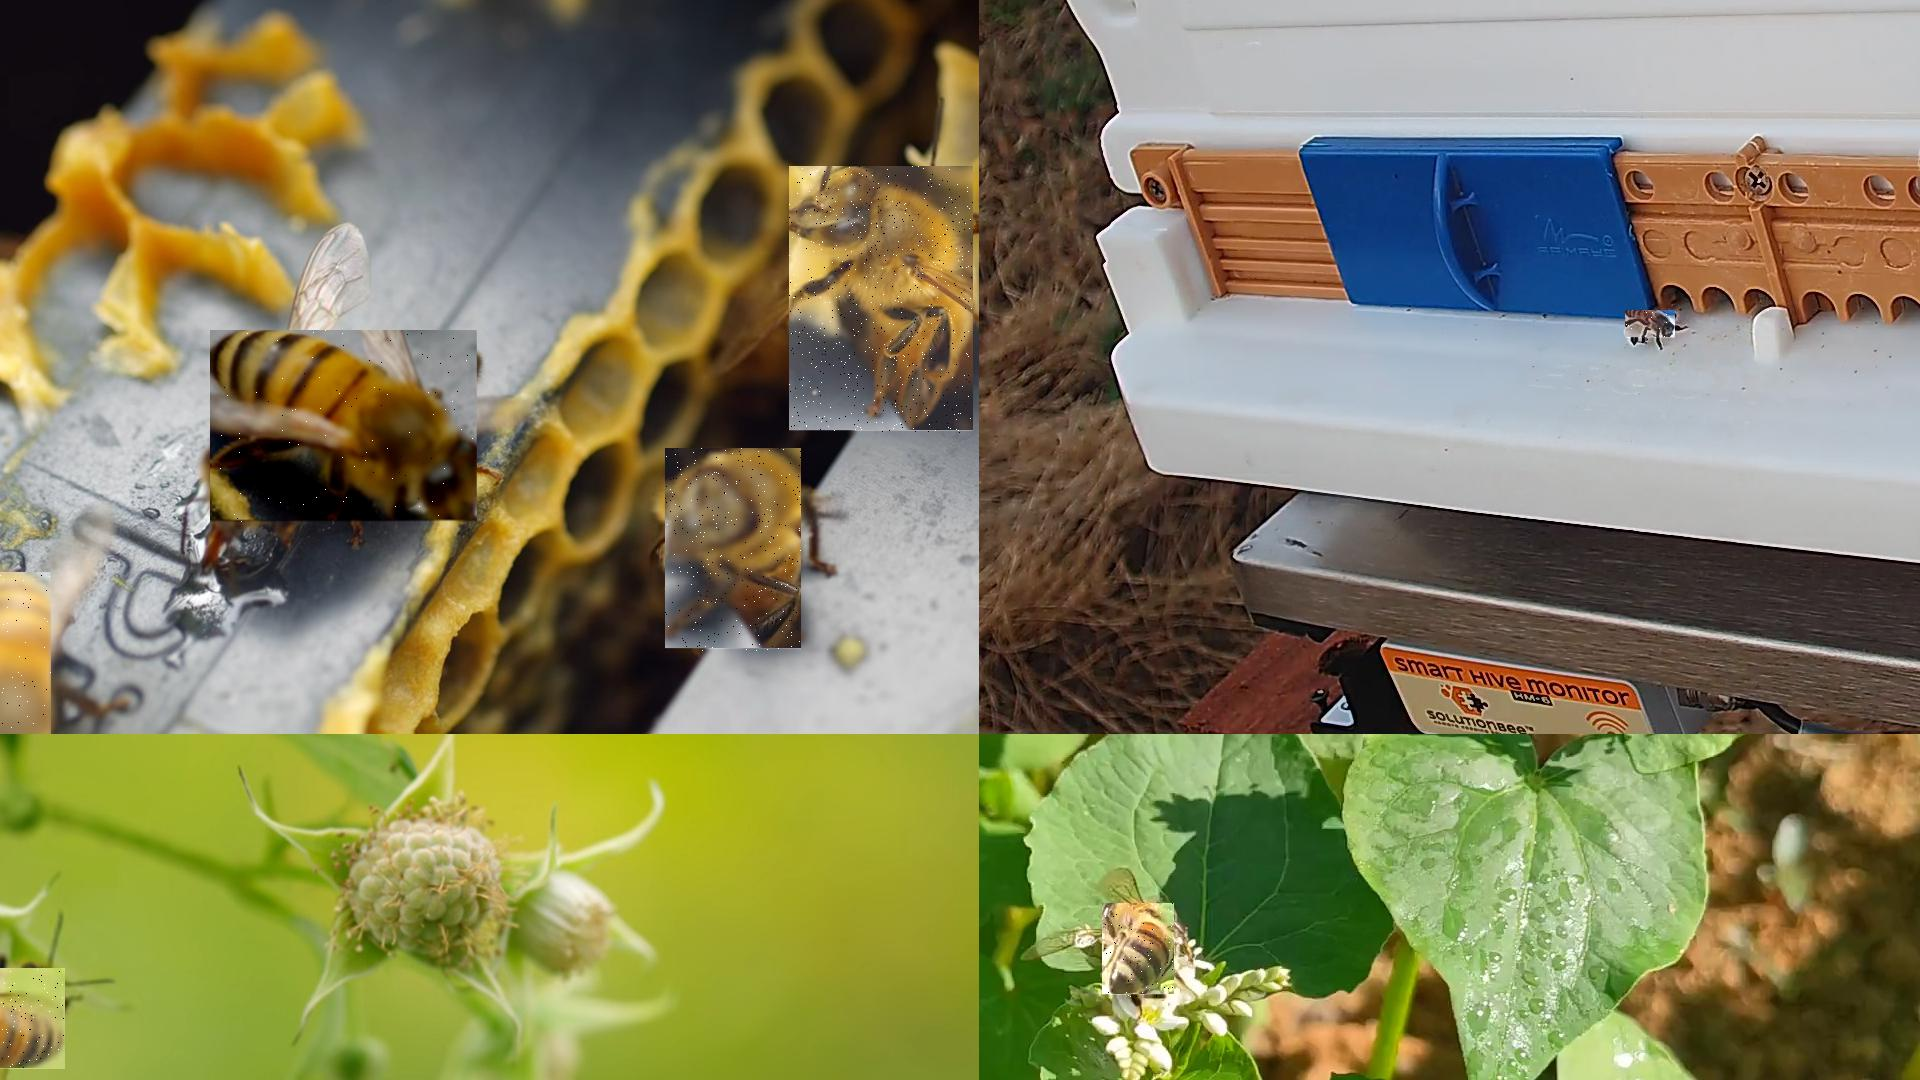bee: (210, 331, 479, 525), (790, 167, 975, 435), (666, 448, 802, 653), (0, 572, 53, 733), (0, 968, 67, 1073), (1102, 903, 1175, 998), (1625, 311, 1676, 342)
